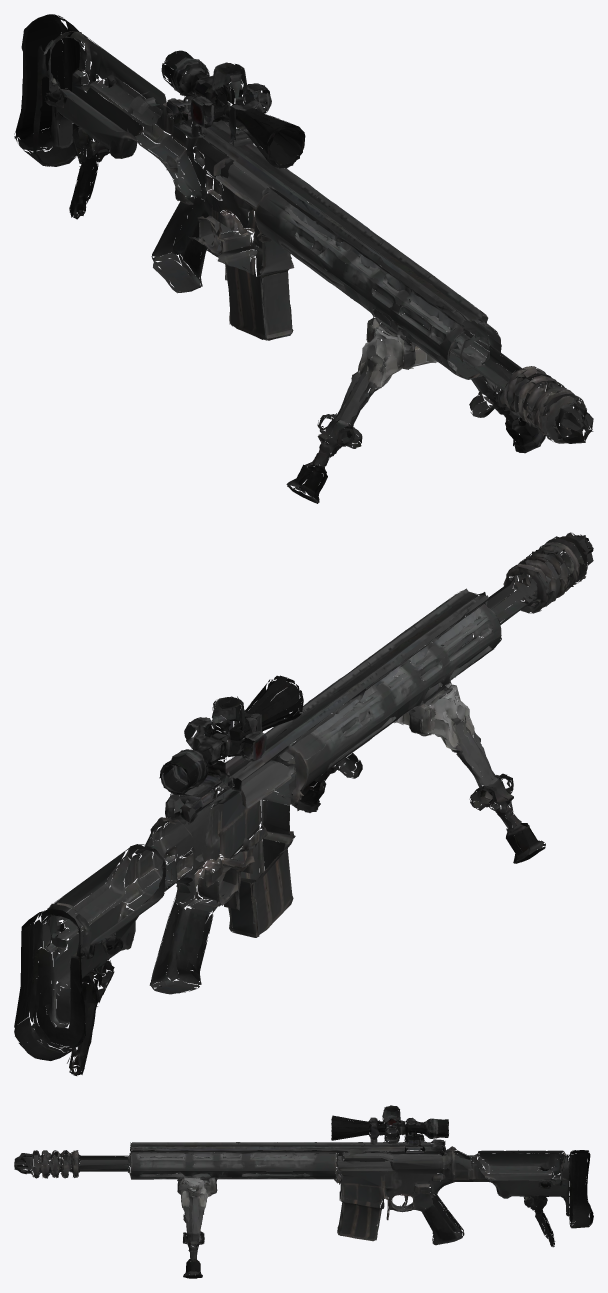
The model's file is barrett.glb.
3 renders of one model, top to bottom at view 1: azimuth 30°, elevation 25°; view 2: azimuth 150°, elevation 25°; view 3: azimuth 270°, elevation 25°, orthographic. The views are drawn at different scales.
Parts seen in each view (by area): view 1: barrett2; view 2: barrett2; view 3: barrett2.
Boxes of the visible parts, left/top/right/bottom form: barrett2: left=14, top=14, right=593, bottom=503; barrett2: left=14, top=532, right=593, bottom=1075; barrett2: left=14, top=1105, right=593, bottom=1278.
Bounding box in the file's own units: 0.3895 × 0.3993 × 1.45.
Materials: 1 (1 with a texture image).
